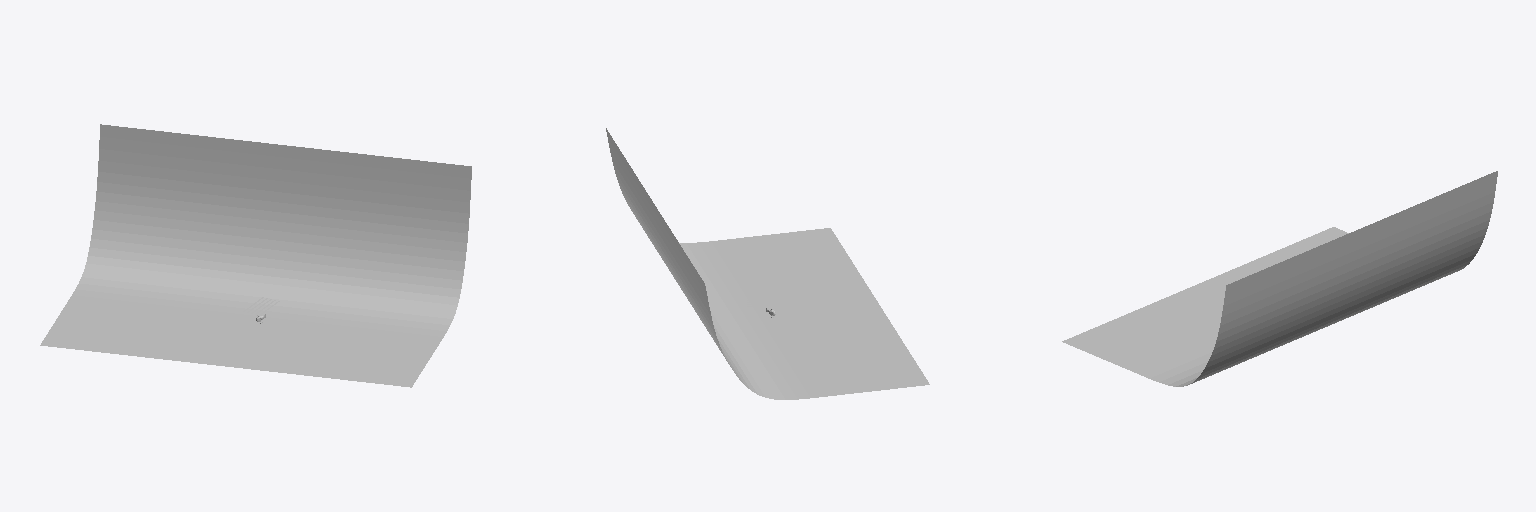
File: helicopter.obj
3 views of the same model, side by side, from view 1: azimuth 30°, elevation 25°; view 2: azimuth 150°, elevation 25°; view 3: azimuth 270°, elevation 25° (orthographic).
Visible parts, largest first — view 1: pPlane1 light_GRp; view 2: pPlane1 light_GRp; view 3: pPlane1 light_GRp.
Boxes of the visible parts, box(x1,y1,x2,y2) form: pPlane1 light_GRp: box(40, 124, 471, 387); pPlane1 light_GRp: box(606, 128, 929, 399); pPlane1 light_GRp: box(1062, 171, 1497, 386).
Bounding box in the file's own units: 12592 × 4009 × 12592.